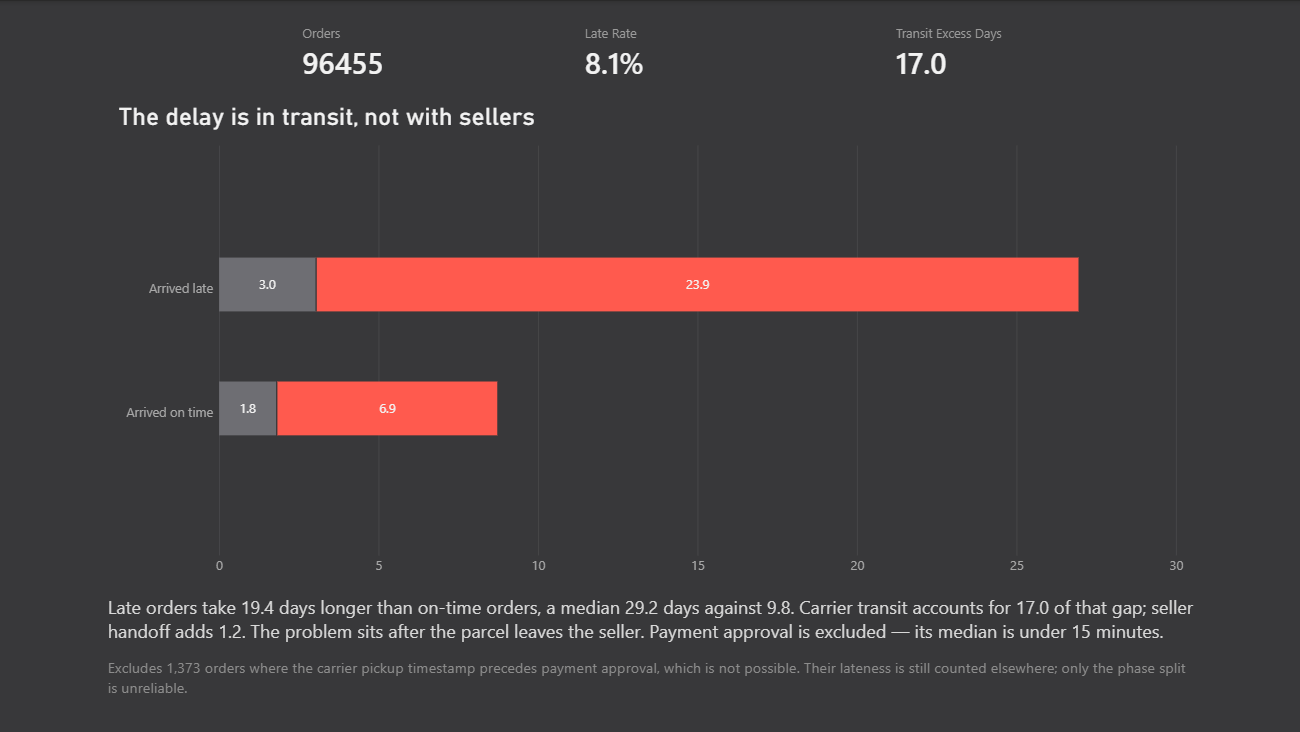

What the dashboard file says about the page in this screenshot:
{"tool":"powerbi","page":{"name":"Where the Delay Is","canvas":[1920,1080],"ordinal":1},"visuals":[{"type":"cardVisual","fields":{"Data":["fact_orders.Orders"]},"box":[430.7,16.6,230,120],"z":0},{"type":"cardVisual","fields":{"Data":["fact_orders.Late Rate"]},"box":[846.6,16.6,230,120],"z":1000},{"type":"barChart","title":"The delay is in transit, not with sellers","fields":{"Category":["fact_orders.Delivery Outcome"],"Y":["fact_orders.Median Handoff Days","fact_orders.Median Transit Days"]},"box":[160.1,134.4,1600,730],"z":2000},{"type":"textbox","box":[160.1,874.2,1599.4,92],"z":3000},{"type":"textbox","box":[160.1,966.3,1599.4,71.8],"z":4000},{"type":"cardVisual","fields":{"Data":["fact_orders.Transit Excess Days"]},"box":[1304.9,16.6,230,120],"z":5000}]}

Visuals, with their boxes in screenshot pixels (x1, y1, x2, y2), scaled from the page's 1920x1080 canvas onto the 1300x732 screenshot:
cardVisual - fact_orders.Orders: {"left": 292, "top": 11, "right": 447, "bottom": 93}
cardVisual - fact_orders.Late Rate: {"left": 573, "top": 11, "right": 729, "bottom": 93}
"The delay is in transit, not with sellers" barChart: {"left": 108, "top": 91, "right": 1192, "bottom": 586}
textbox: {"left": 108, "top": 593, "right": 1191, "bottom": 655}
textbox: {"left": 108, "top": 655, "right": 1191, "bottom": 704}
cardVisual - fact_orders.Transit Excess Days: {"left": 884, "top": 11, "right": 1039, "bottom": 93}
